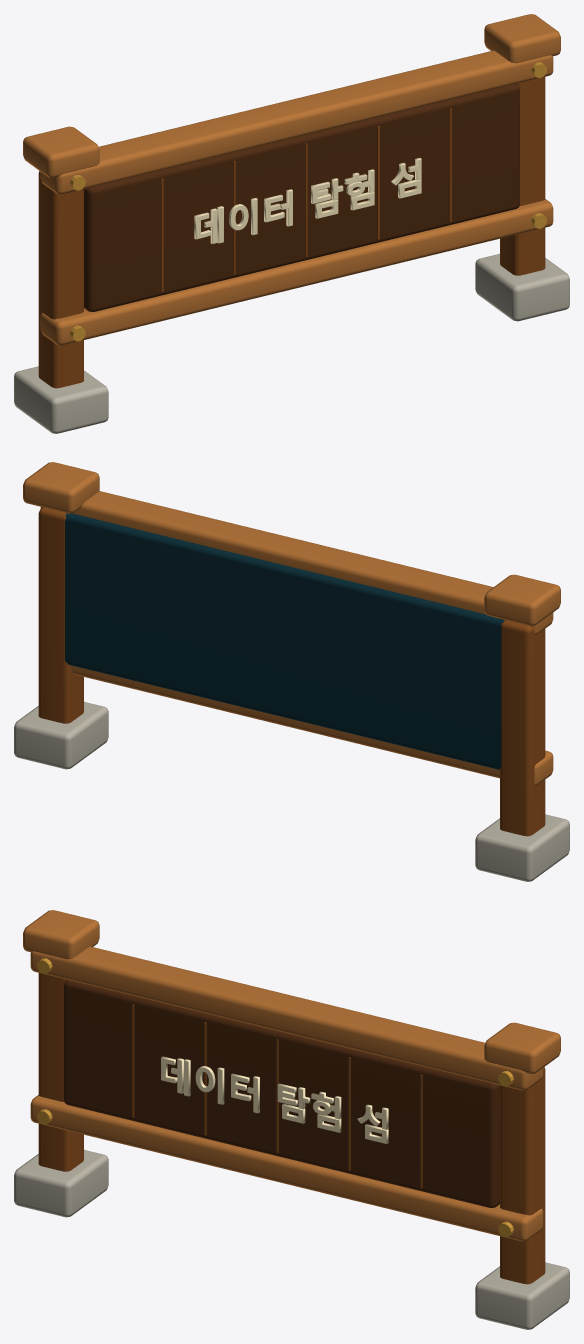
The model's file is OBJ42_sign_exploration.glb.
3 views of the same model, one above another, from view 1: azimuth 30°, elevation 25°; view 2: azimuth 150°, elevation 25°; view 3: azimuth 330°, elevation 25° (orthographic).
Parts seen in each view (by area): view 1: Wood sign face, Horizontal oak rail.001, Horizontal oak rail, Timber post, Timber post.001, Island title, Board foot.001, Board foot, Post cap, Post cap.001; view 2: Slate panel, Horizontal oak rail.001, Timber post, Timber post.001, Board foot.001, Board foot, Horizontal oak rail, Post cap, Post cap.001; view 3: Wood sign face, Horizontal oak rail.001, Horizontal oak rail, Timber post.001, Timber post, Island title, Board foot, Board foot.001, Post cap.001, Post cap.
Boxes of the visible parts, box(x1,y1,x2,y2) form: Wood sign face: box(84, 83, 519, 311); Horizontal oak rail.001: box(40, 50, 553, 194); Horizontal oak rail: box(40, 199, 553, 345); Timber post: box(38, 171, 83, 388); Timber post.001: box(500, 77, 545, 275); Island title: box(194, 158, 421, 244); Board foot.001: box(475, 254, 569, 321); Board foot: box(14, 366, 108, 433); Post cap: box(23, 126, 99, 177); Post cap.001: box(484, 14, 560, 63); Slate panel: box(65, 513, 505, 769); Horizontal oak rail.001: box(40, 491, 553, 634); Timber post: box(500, 620, 545, 836); Timber post.001: box(38, 507, 83, 723); Board foot.001: box(14, 702, 108, 769); Board foot: box(475, 814, 569, 881); Horizontal oak rail: box(72, 665, 553, 785); Post cap: box(484, 574, 560, 625); Post cap.001: box(23, 462, 99, 513); Wood sign face: box(64, 979, 499, 1207); Horizontal oak rail.001: box(30, 946, 543, 1090); Horizontal oak rail: box(30, 1095, 543, 1241); Timber post.001: box(500, 1067, 545, 1284); Timber post: box(38, 973, 83, 1171); Island title: box(161, 1056, 388, 1143); Board foot: box(14, 1150, 108, 1217); Board foot.001: box(475, 1262, 569, 1329); Post cap.001: box(484, 1022, 560, 1073); Post cap: box(23, 910, 99, 959).
Bounding box in the file's own units: 3.6 × 1.82 × 0.5.
